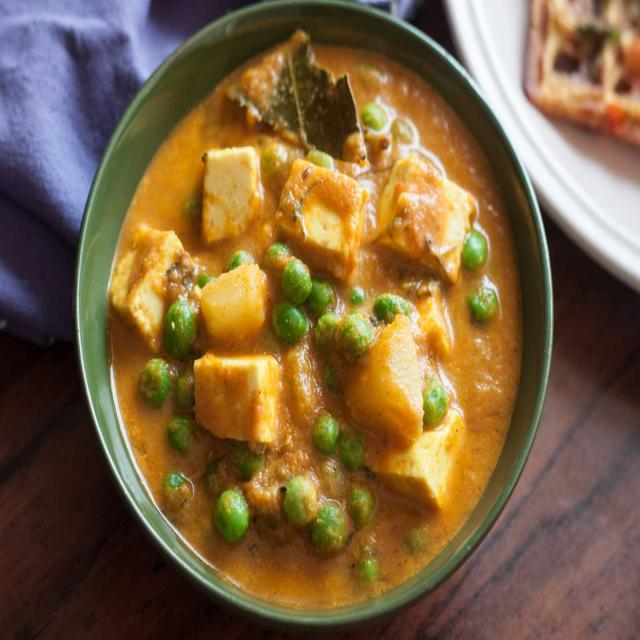Aloo Matar: (118, 49, 510, 594)
